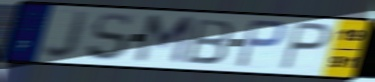B: (183, 17, 236, 66)
J: (42, 9, 92, 62)
M: (131, 13, 198, 67)
P: (278, 20, 334, 72), (234, 18, 289, 70)
S: (84, 11, 133, 63)
